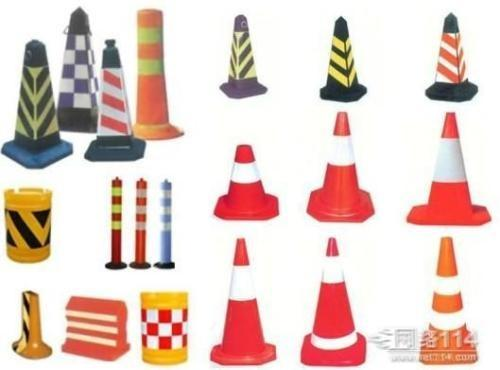cone_barrel: (301, 234, 366, 367), (409, 112, 481, 229), (4, 39, 69, 164), (212, 237, 272, 367), (306, 112, 372, 225), (419, 237, 475, 363), (129, 9, 180, 141), (90, 38, 137, 157), (53, 15, 98, 127), (213, 144, 277, 220), (316, 15, 367, 99), (425, 11, 472, 99), (5, 182, 52, 267), (221, 14, 266, 90), (15, 287, 50, 360), (104, 176, 125, 271), (130, 174, 149, 272), (155, 178, 173, 269)
